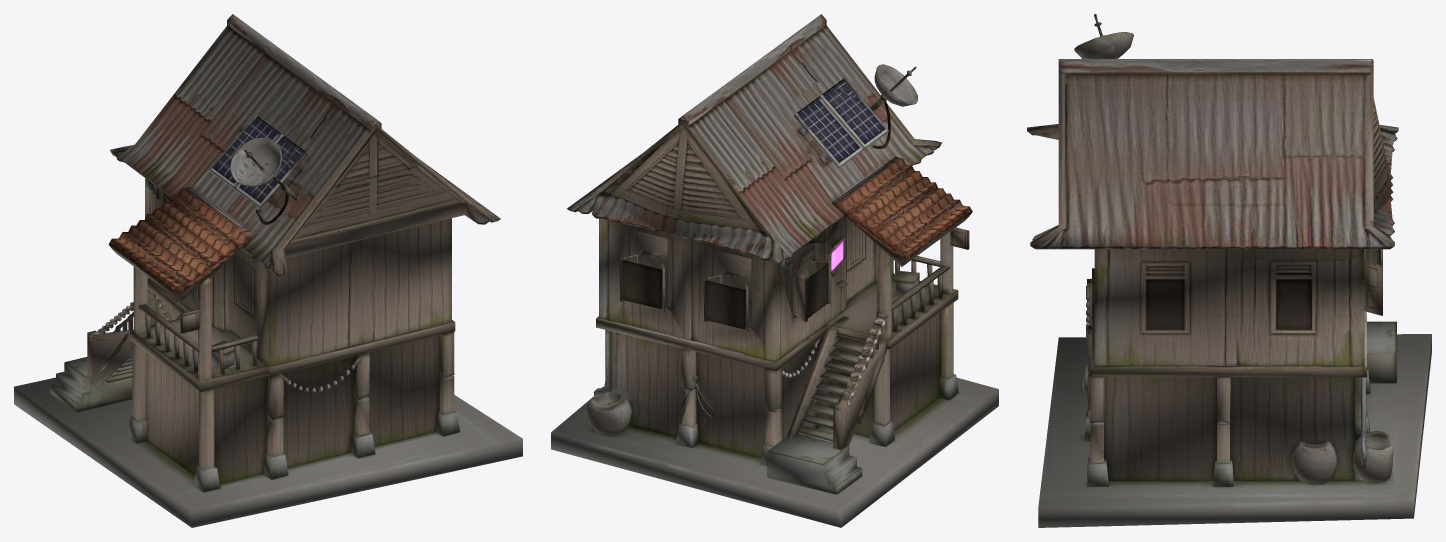
File: khmer_stilt_house.glb
The picture shows the model from 3 angles, left to right: view 1: azimuth 30°, elevation 25°; view 2: azimuth 150°, elevation 25°; view 3: azimuth 270°, elevation 25°; orthographic projection. The views are drawn at different scales.
Parts seen in each view (by area): view 1: Body; view 2: Body; view 3: Body.
Boxes of the visible parts, x1,y1,x2,y2 form: Body: (14, 14, 522, 527); Body: (551, 14, 998, 527); Body: (1027, 14, 1431, 527).
Bounding box in the file's own units: 10 × 10.58 × 9.79.
1 material, 1 textured.
